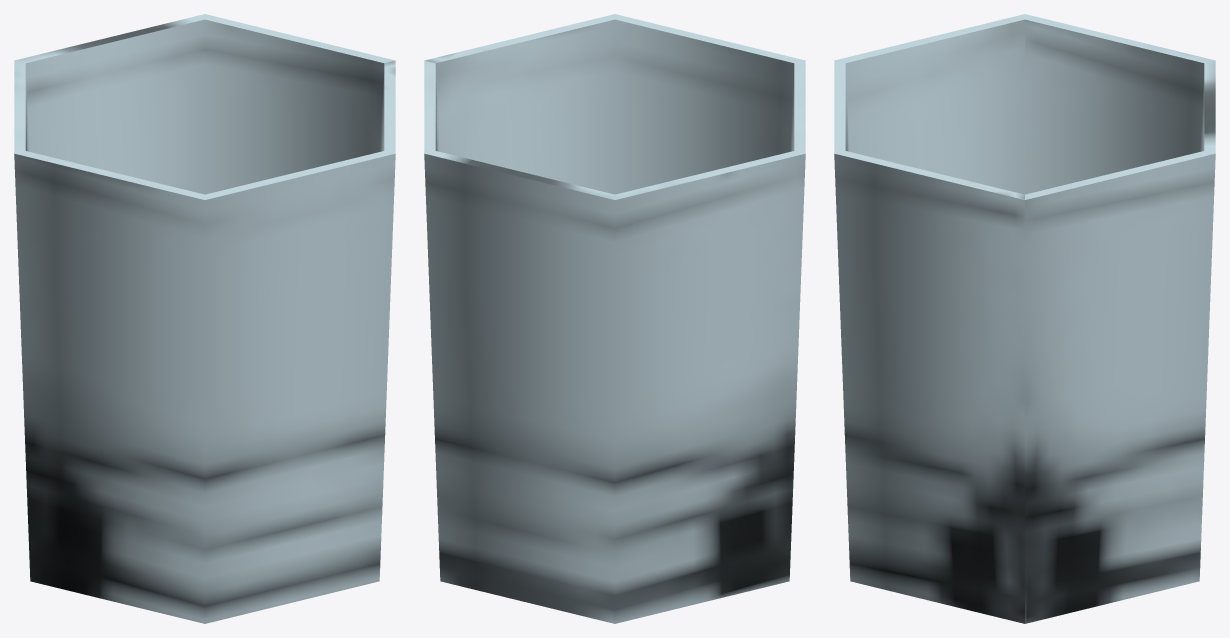
File: EmptyGlassV9.fbx
The picture shows the model from 3 angles, left to right: view 1: azimuth 30°, elevation 25°; view 2: azimuth 150°, elevation 25°; view 3: azimuth 270°, elevation 25°; orthographic projection.
Visible parts, largest first — view 1: Glasses.002; view 2: Glasses.002; view 3: Glasses.002.
Part boxes in pixels (box(x1,y1,x2,y2)): Glasses.002: box(14, 14, 395, 623); Glasses.002: box(424, 14, 805, 623); Glasses.002: box(834, 14, 1215, 623).
Size of the model in its own units: 0.1891 by 0.2044 by 0.1637.
